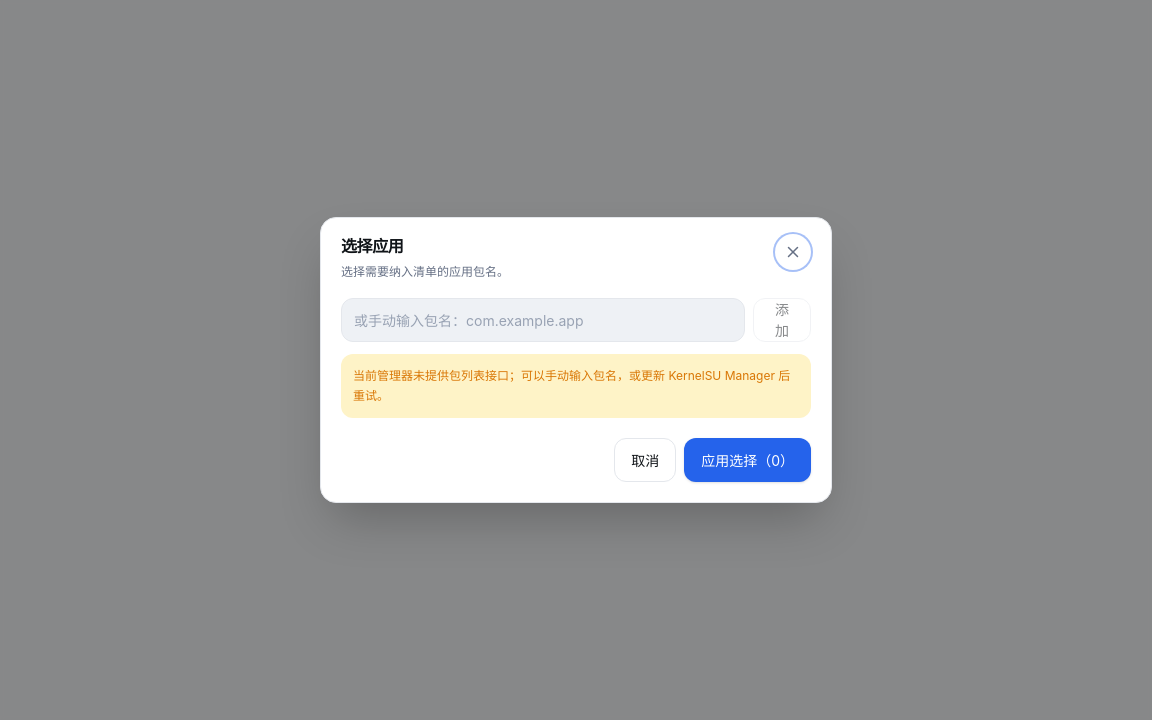
Test: PackagePicker › rejects an invalid manual package name
Step 1. Type "not a package" into the field labelled "手动输入包名" → (543, 320), box [341, 298, 745, 342]
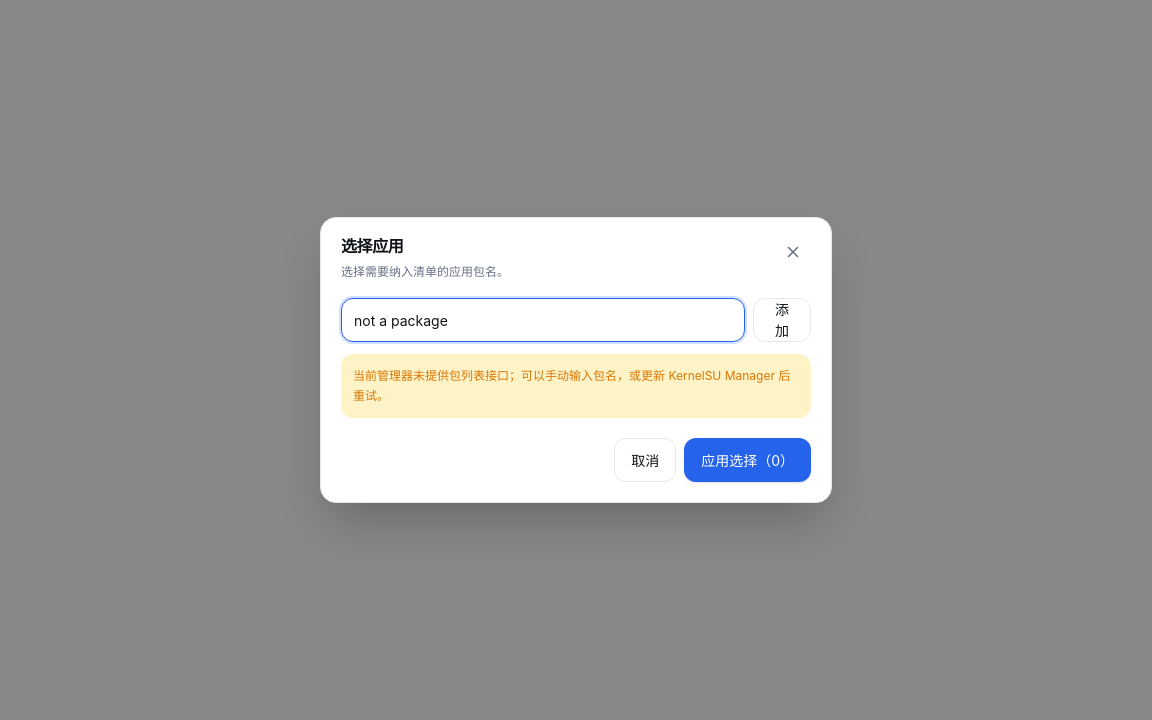
Step 2. Click the button "添加" → (782, 320), box [753, 298, 811, 342]
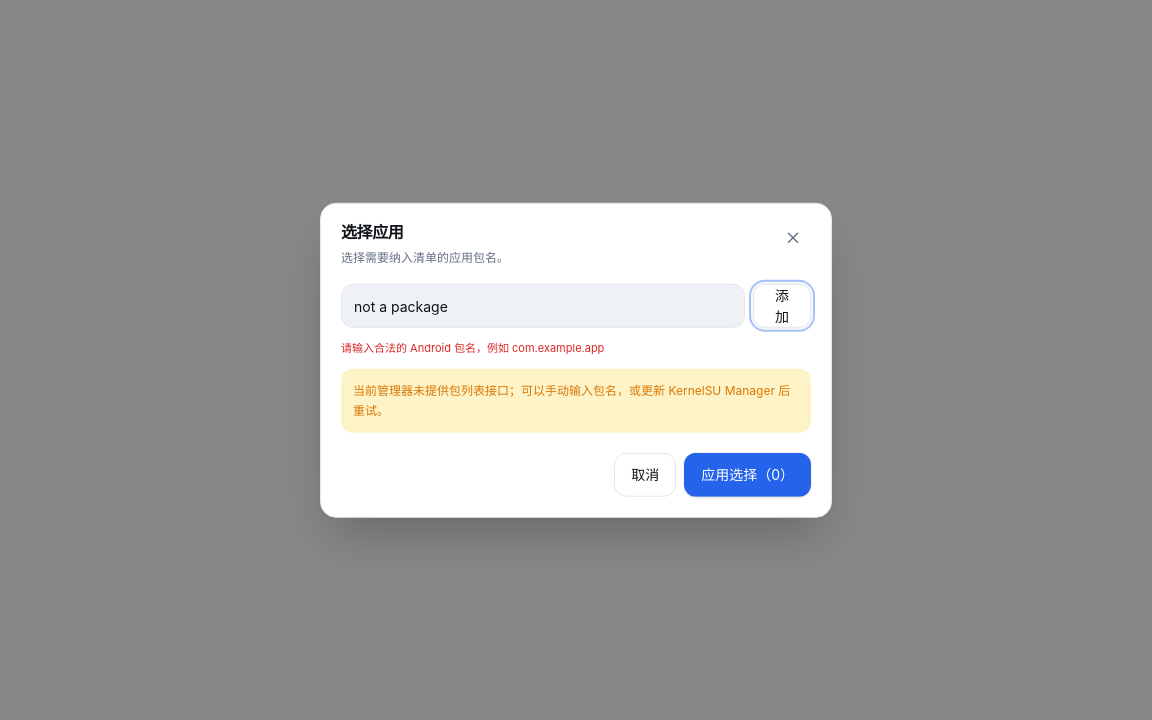
Expected: the button "应用选择（0）" is shown, [684, 452, 811, 496]
Expected: the text "请输入合法的 Android 包名，例如 com.example.app" is shown, [341, 341, 604, 355]
